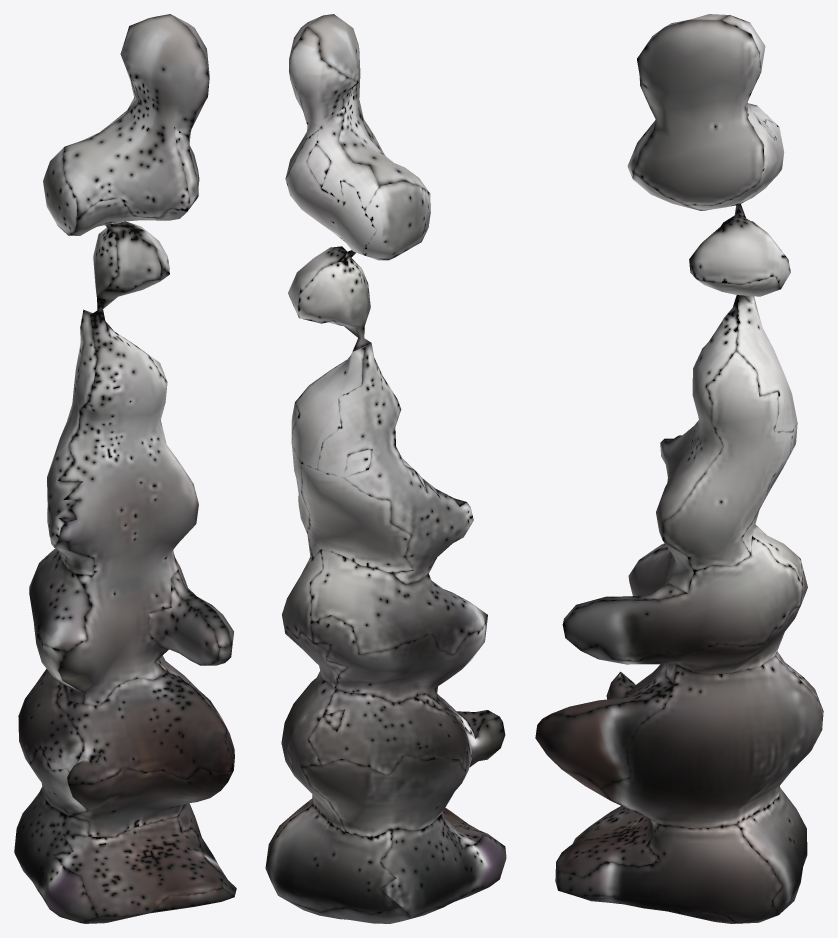
The picture shows the model from 3 angles, left to right: view 1: azimuth 30°, elevation 25°; view 2: azimuth 150°, elevation 25°; view 3: azimuth 270°, elevation 25°; orthographic projection. The views are drawn at different scales.
Parts seen in each view (by area): view 1: model.obj; view 2: model.obj; view 3: model.obj.
Boxes of the visible parts, left/top/right/bottom form: model.obj: left=14, top=14, right=236, bottom=923; model.obj: left=265, top=14, right=506, bottom=923; model.obj: left=535, top=14, right=823, bottom=923.
Bounding box in the file's own units: 0.1247 × 0.5881 × 0.1687.
Materials: 1 (1 with a texture image).
